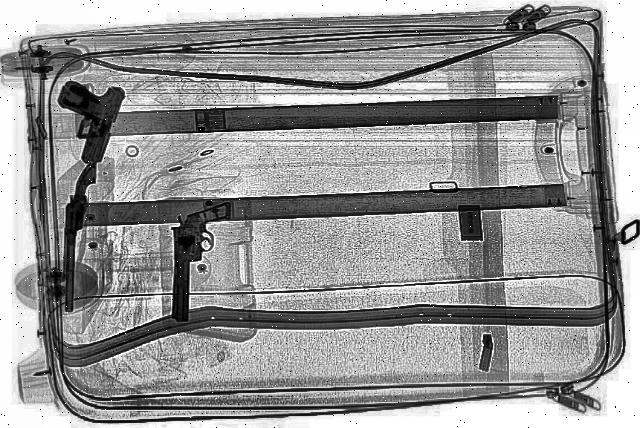Gun: (164, 202, 232, 324), (34, 80, 130, 166), (46, 164, 98, 316)
